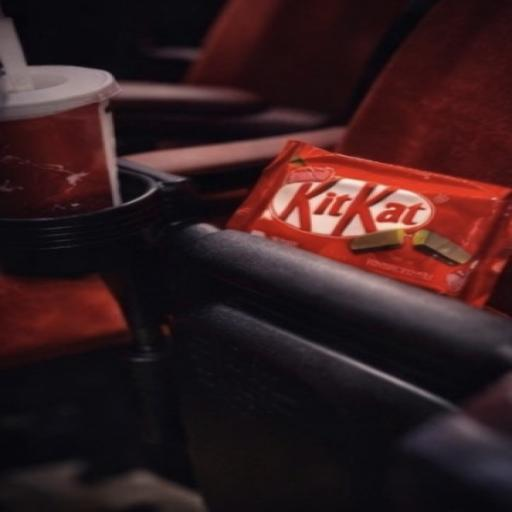kitkat: (191, 112, 512, 344)
